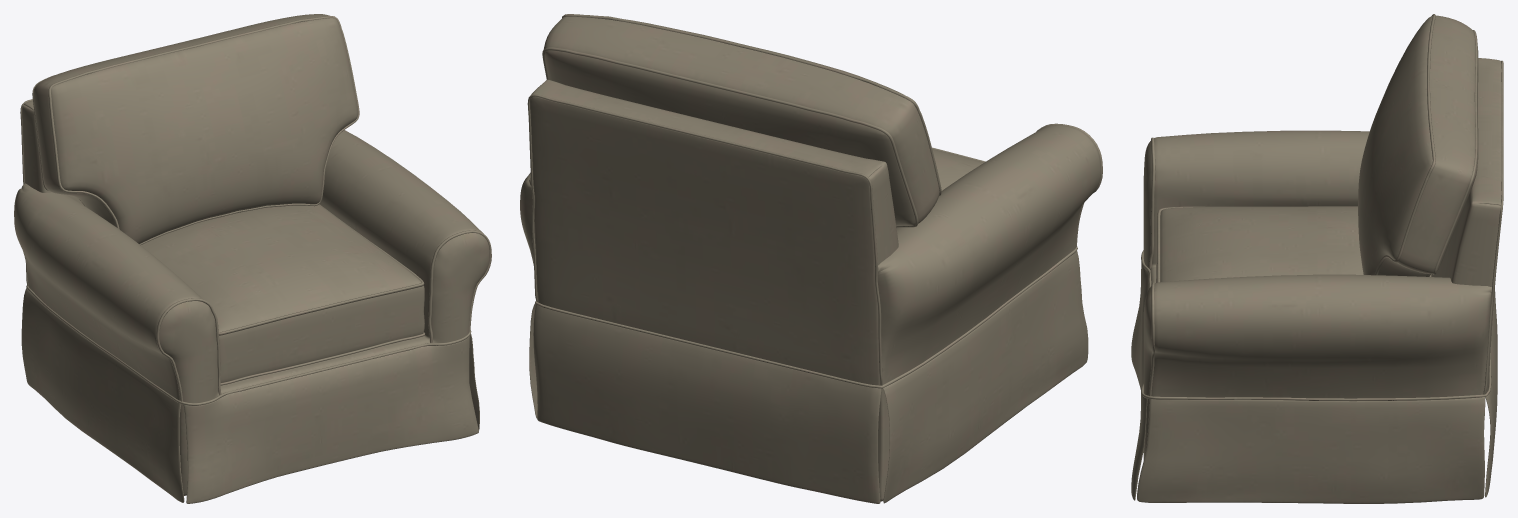
The model's file is abo-B073G856N6.glb.
3 views of the same model, side by side, from view 1: azimuth 30°, elevation 25°; view 2: azimuth 150°, elevation 25°; view 3: azimuth 270°, elevation 25° (orthographic). The views are drawn at different scales.
Bounding box in the file's own units: 1.13 × 1.02 × 0.988.
Materials: 1 (1 with a texture image).
